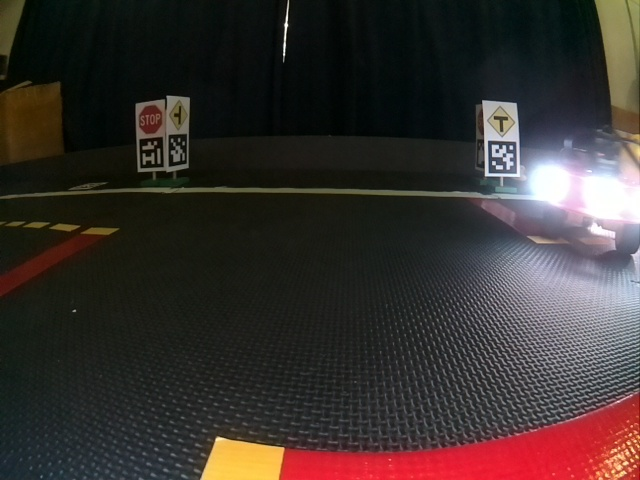Duckiebot: (537, 132, 639, 253)
Intersection sign: (487, 105, 516, 137), (169, 100, 189, 131)
QR code: (486, 141, 519, 176), (138, 137, 163, 169), (169, 134, 187, 168), (70, 182, 104, 191)
Stop sign: (137, 103, 163, 133)
